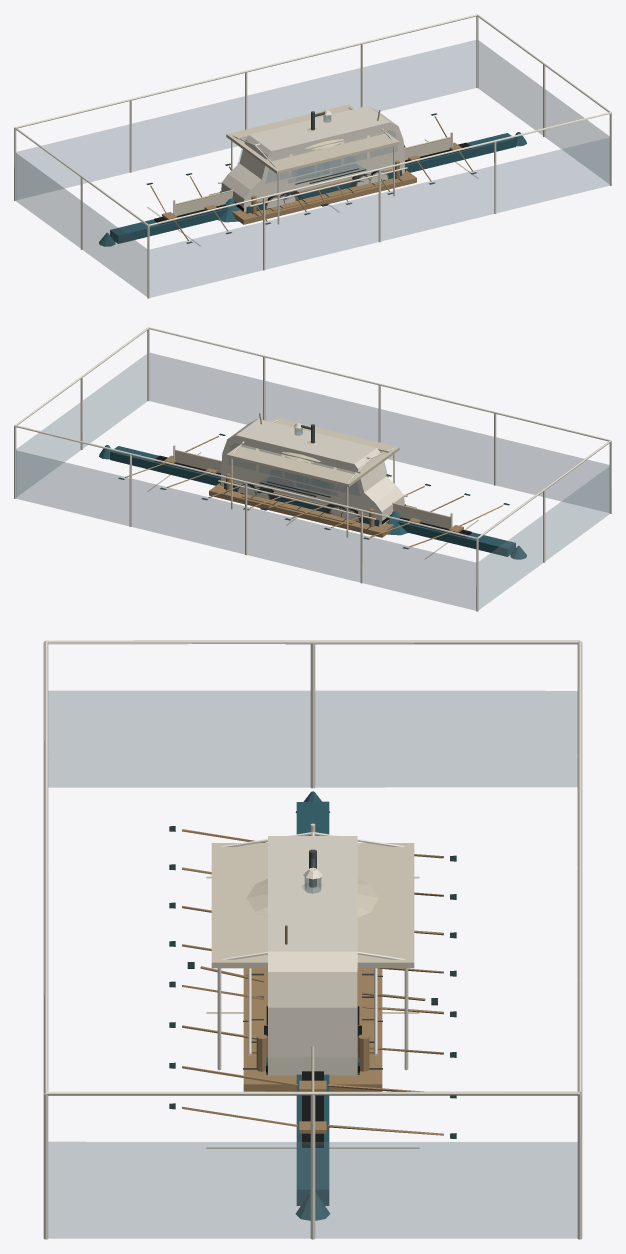
Rendered from props.glb.
3 views of the same model, one above another, from view 1: azimuth 30°, elevation 25°; view 2: azimuth 150°, elevation 25°; view 3: azimuth 270°, elevation 25° (orthographic). The views are drawn at different scales.
Visible parts, largest first — view 1: asset:padel-court-enclosure, asset:minibus, asset:rowing-eight, asset:small-marquee, asset:floating-landing-stage, asset:tennis-net-and-posts, asset:small-launch, asset:estate-4x4, asset:small-van, asset:event-stage-deck; view 2: asset:padel-court-enclosure, asset:minibus, asset:rowing-eight, asset:small-marquee, asset:floating-landing-stage, asset:tennis-net-and-posts, asset:estate-4x4, asset:small-launch, asset:small-van, asset:event-stage-deck, asset:luxury-saloon; view 3: asset:padel-court-enclosure, asset:minibus, asset:small-marquee, asset:rowing-eight, asset:floating-landing-stage, asset:event-stage-deck, asset:parasol.
Boxes of the visible parts, <box> form: asset:padel-court-enclosure: <box>14,14,611,298</box>; asset:minibus: <box>220,106,405,212</box>; asset:rowing-eight: <box>99,113,526,246</box>; asset:small-marquee: <box>226,104,399,224</box>; asset:floating-landing-stage: <box>209,160,416,224</box>; asset:tennis-net-and-posts: <box>173,132,452,215</box>; asset:small-launch: <box>218,169,401,222</box>; asset:estate-4x4: <box>284,156,369,200</box>; asset:small-van: <box>280,162,371,203</box>; asset:event-stage-deck: <box>270,181,383,211</box>; asset:padel-court-enclosure: <box>14,327,611,611</box>; asset:minibus: <box>220,419,405,525</box>; asset:rowing-eight: <box>99,433,526,559</box>; asset:small-marquee: <box>226,417,399,537</box>; asset:floating-landing-stage: <box>209,473,416,537</box>; asset:tennis-net-and-posts: <box>173,445,452,528</box>; asset:estate-4x4: <box>256,469,340,515</box>; asset:small-launch: <box>224,482,407,535</box>; asset:small-van: <box>254,475,345,516</box>; asset:event-stage-deck: <box>241,494,355,524</box>; asset:luxury-saloon: <box>259,477,328,513</box>; asset:padel-court-enclosure: <box>43,640,582,1239</box>; asset:minibus: <box>264,836,361,1075</box>; asset:small-marquee: <box>211,831,414,1070</box>; asset:rowing-eight: <box>169,791,456,1220</box>; asset:floating-landing-stage: <box>243,968,382,1091</box>; asset:event-stage-deck: <box>251,968,373,1053</box>; asset:parasol: <box>246,879,379,917</box>.
Bounding box in the file's own units: 20.09 × 3.35 × 10.09.
